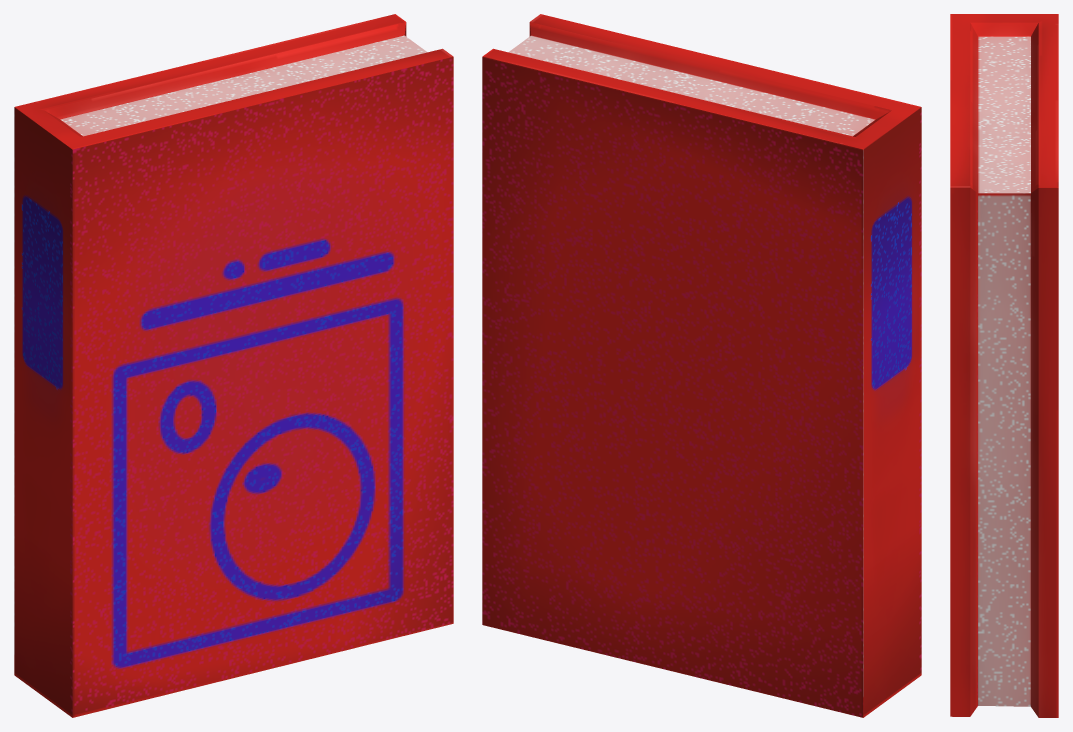
Rendered from Kirja.fbx.
The picture shows the model from 3 angles, left to right: view 1: azimuth 30°, elevation 25°; view 2: azimuth 150°, elevation 25°; view 3: azimuth 270°, elevation 25°; orthographic projection. The views are drawn at different scales.
Parts seen in each view (by area): view 1: Cube; view 2: Cube; view 3: Cube.
Part boxes in pixels (<box>): Cube: <box>14,14,453,717</box>; Cube: <box>482,14,921,717</box>; Cube: <box>950,14,1058,717</box>.
Size of the model in its own units: 200 by 285 by 52.91.
